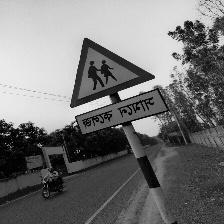College-in-front: (57, 30, 195, 146)
